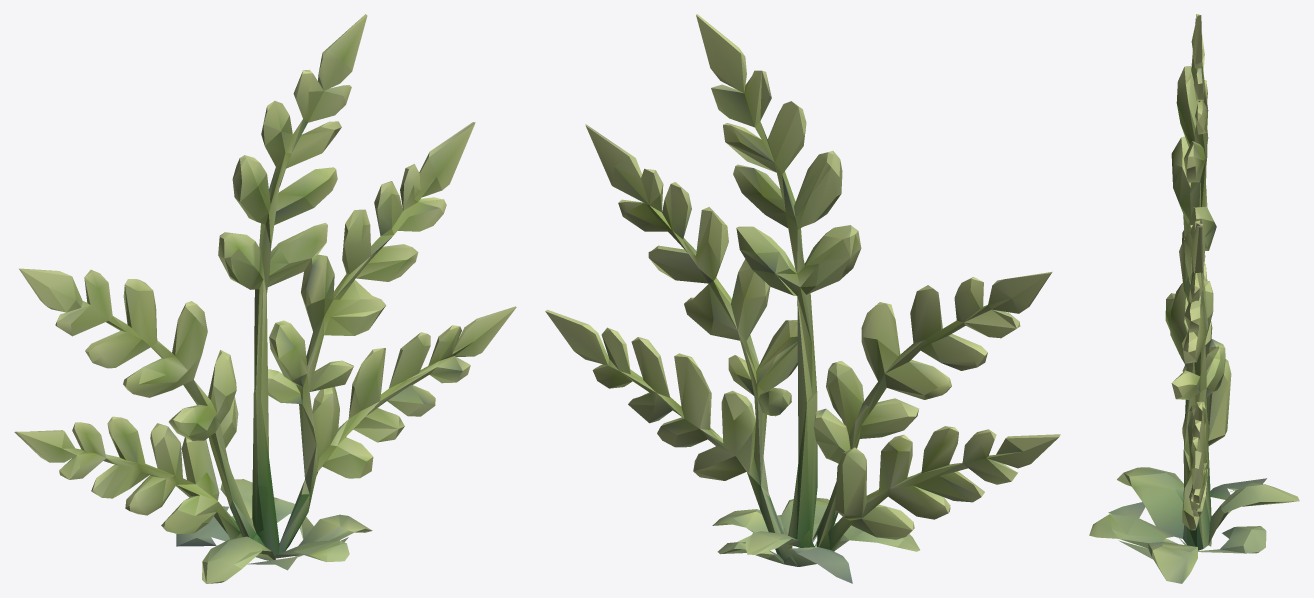
Rendered from fern.glb.
3 views of the same model, side by side, from view 1: azimuth 30°, elevation 25°; view 2: azimuth 150°, elevation 25°; view 3: azimuth 270°, elevation 25° (orthographic). The views are drawn at different scales.
Visible parts, largest first — view 1: geometry_0; view 2: geometry_0; view 3: geometry_0.
Part boxes in pixels (bbox=[...]): geometry_0: bbox=[14, 14, 516, 583]; geometry_0: bbox=[545, 14, 1060, 583]; geometry_0: bbox=[1089, 14, 1299, 583].
Size of the model in its own units: 0.7 by 0.6868 by 0.2241.
